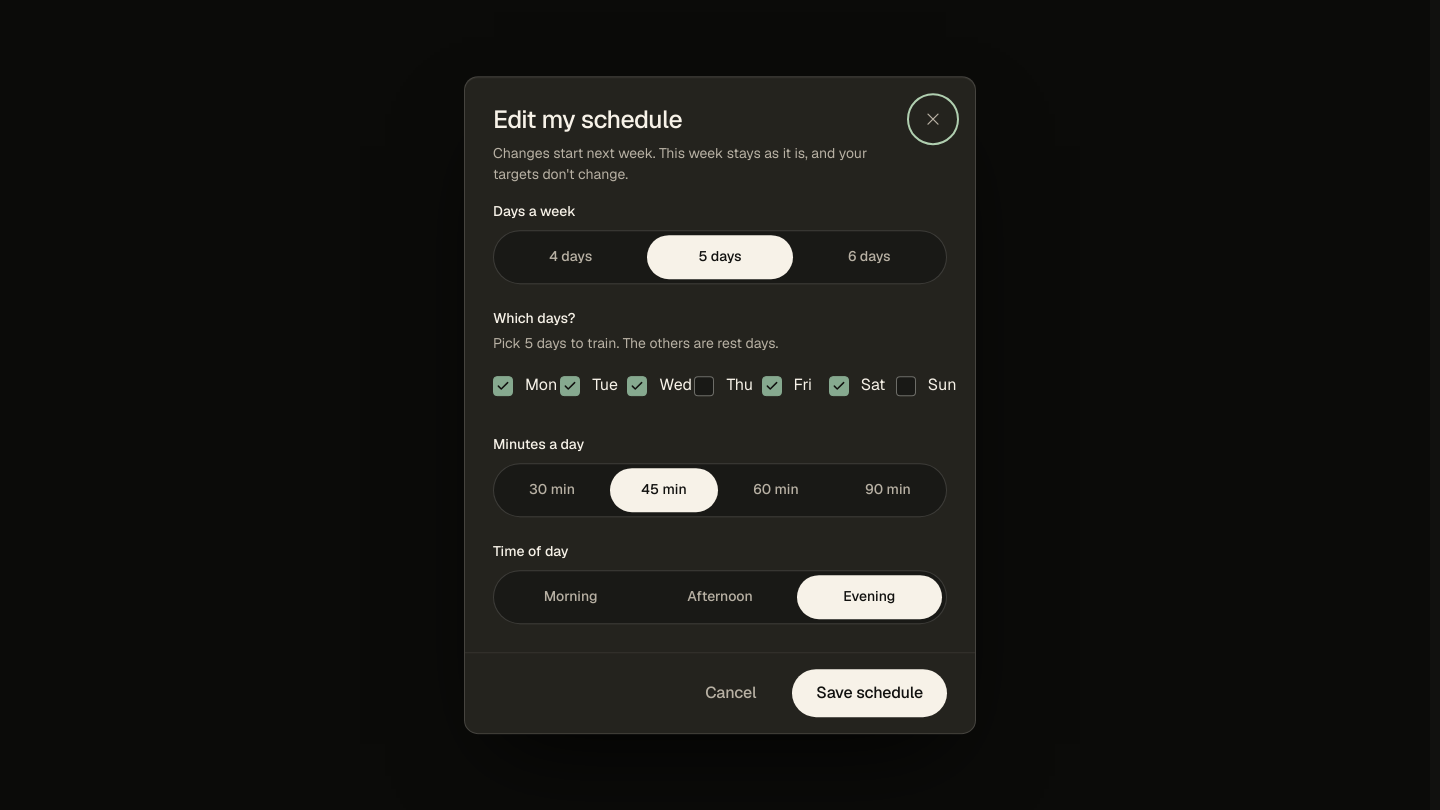
EditScheduleDialog › shows the server's reason when a save is refused
Click the radio button labelled "60 min" at (776, 489), box [753,480,799,498]
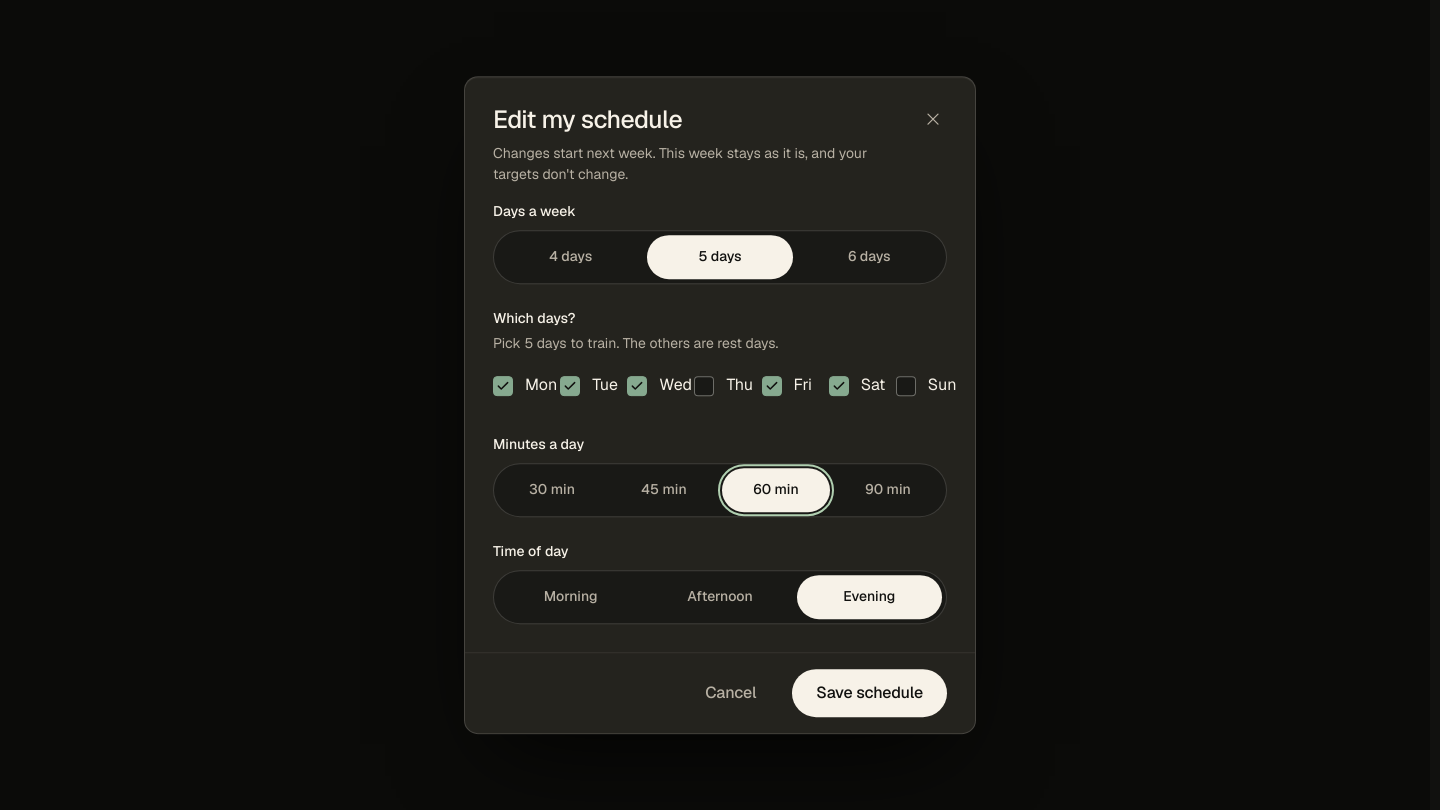
Click the button "Save schedule" at (870, 693), box [792,669,947,717]
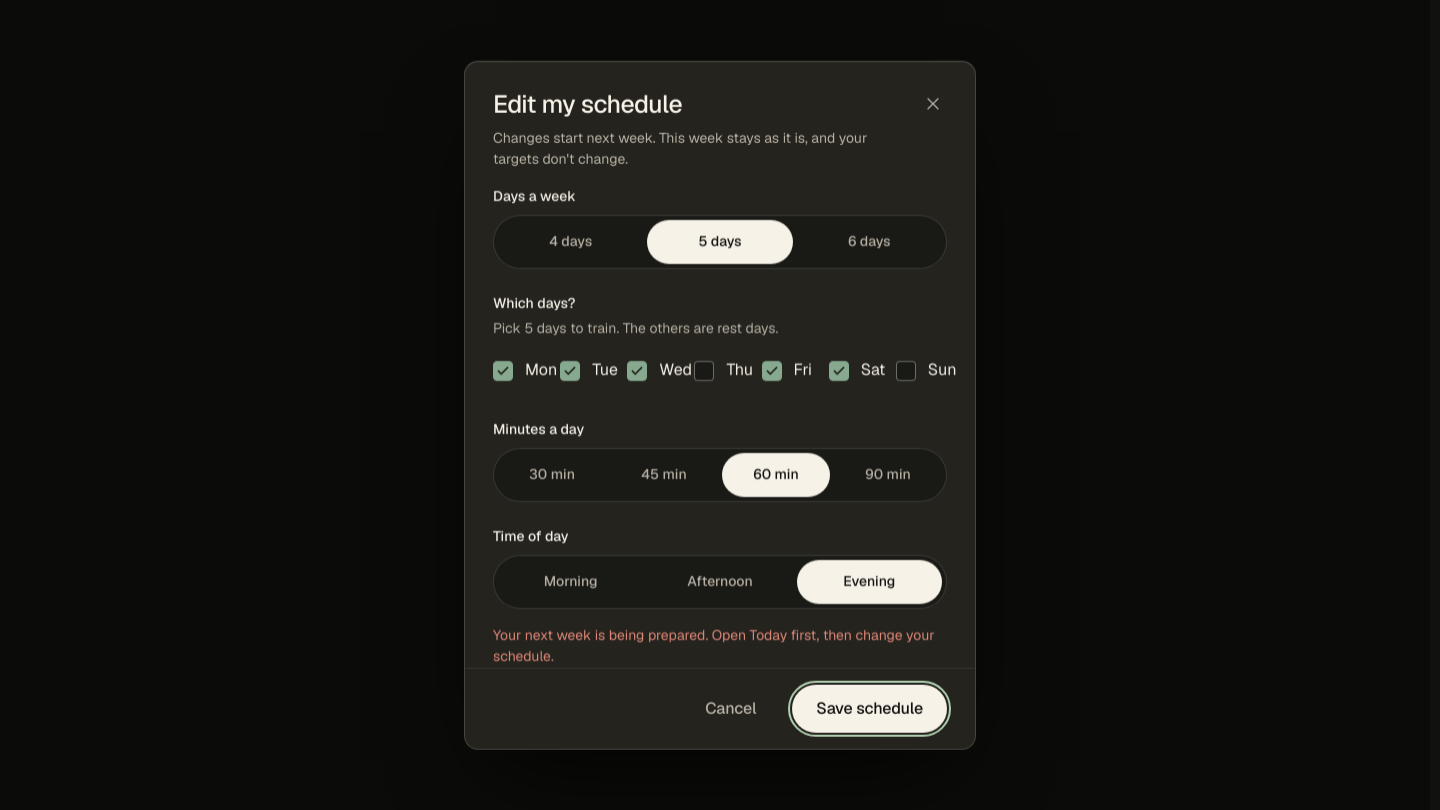
Now the message shows "Your next week is being prepared.", box [493,626,934,664]
